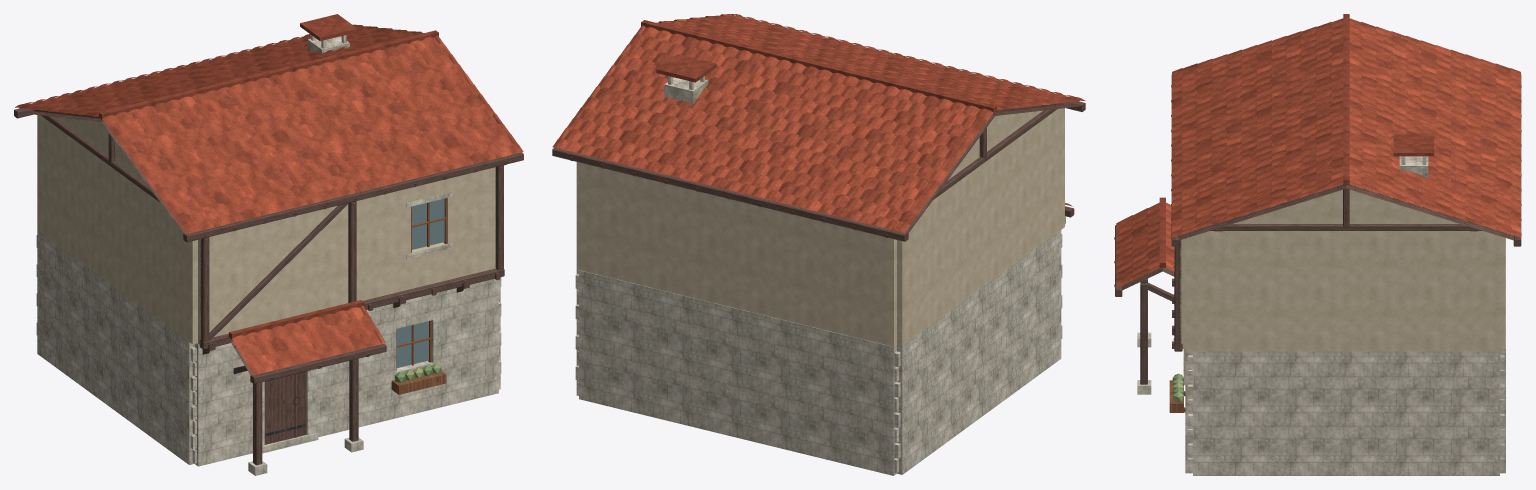
The model's file is B15_vivienda.glb.
3 renders of one model, left to right at view 1: azimuth 30°, elevation 25°; view 2: azimuth 150°, elevation 25°; view 3: azimuth 270°, elevation 25°, orthographic. The views are drawn at different scales.
Visible parts, largest first — view 1: AUR034_B15_clay_tiles, AUR034_B15_upper_plaster, AUR034_B15_lower_masonry, AUR034_B15_porch_clay_tiles, AUR034_B15_fascia-1, AUR034_B15_entry_leaf0, AUR034_B15_ridge, AUR034_B15_sill, AUR034_B15_window1_glazing, AUR034_B15_brace0, AUR034_B15_porch_fascia-1, AUR034_B15_gable-1 (+13 smaller); view 2: AUR034_B15_lower_masonry, AUR034_B15_clay_tiles, AUR034_B15_upper_plaster, AUR034_B15_fascia1, AUR034_B15_ridge, AUR034_B15_gable-1, AUR034_B15_dressed_corner_stones, AUR034_B15_cowl, AUR034_B15_gable_tie-1, AUR034_B15_roof_sheathing, AUR034_B15_chimney; view 3: AUR034_B15_clay_tiles, AUR034_B15_lower_masonry, AUR034_B15_upper_plaster, AUR034_B15_gable1, AUR034_B15_porch_clay_tiles, AUR034_B15_roof_sheathing, AUR034_B15_gable_tie1, AUR034_B15_ridge, AUR034_B15_dressed_corner_stones, AUR034_B15_cowl, AUR034_B15_porch_post1, AUR034_B15_post2 (+2 smaller).
Part boxes in pixels (bbox=[...]): AUR034_B15_clay_tiles: bbox=[15, 24, 523, 233]; AUR034_B15_upper_plaster: bbox=[37, 115, 495, 344]; AUR034_B15_lower_masonry: bbox=[37, 231, 500, 466]; AUR034_B15_porch_clay_tiles: bbox=[225, 305, 385, 375]; AUR034_B15_fascia-1: bbox=[183, 152, 523, 242]; AUR034_B15_entry_leaf0: bbox=[264, 371, 306, 444]; AUR034_B15_ridge: bbox=[99, 30, 438, 119]; AUR034_B15_sill: bbox=[199, 268, 504, 349]; AUR034_B15_window1_glazing: bbox=[412, 198, 444, 249]; AUR034_B15_brace0: bbox=[209, 203, 348, 340]; AUR034_B15_porch_fascia-1: bbox=[250, 343, 386, 383]; AUR034_B15_gable-1: bbox=[55, 117, 145, 183]; AUR034_B15_lower_masonry: bbox=[576, 230, 1061, 475]; AUR034_B15_clay_tiles: bbox=[552, 14, 1085, 233]; AUR034_B15_upper_plaster: bbox=[576, 108, 1064, 346]; AUR034_B15_fascia1: bbox=[552, 147, 908, 241]; AUR034_B15_ridge: bbox=[641, 20, 996, 113]; AUR034_B15_gable-1: bbox=[947, 110, 1042, 180]; AUR034_B15_dressed_corner_stones: bbox=[575, 234, 1062, 473]; AUR034_B15_cowl: bbox=[656, 54, 716, 82]; AUR034_B15_gable_tie-1: bbox=[901, 103, 1064, 214]; AUR034_B15_roof_sheathing: bbox=[906, 102, 1081, 232]; AUR034_B15_chimney: bbox=[664, 77, 708, 104]; AUR034_B15_clay_tiles: bbox=[1172, 18, 1520, 237]; AUR034_B15_lower_masonry: bbox=[1185, 238, 1505, 475]; AUR034_B15_upper_plaster: bbox=[1180, 232, 1505, 351]; AUR034_B15_gable1: bbox=[1207, 190, 1485, 231]; AUR034_B15_porch_clay_tiles: bbox=[1116, 202, 1174, 288]; AUR034_B15_roof_sheathing: bbox=[1179, 185, 1513, 240]; AUR034_B15_gable_tie1: bbox=[1194, 224, 1498, 230]; AUR034_B15_ridge: bbox=[1343, 14, 1349, 185]; AUR034_B15_dressed_corner_stones: bbox=[1188, 355, 1504, 471]; AUR034_B15_cowl: bbox=[1393, 134, 1434, 156]; AUR034_B15_porch_post1: bbox=[1140, 283, 1147, 384]; AUR034_B15_post2: bbox=[1174, 240, 1181, 347].
Size of the model in its own units: 8.96 by 7.64 by 9.29.
Materials: 12 (8 with a texture image).
